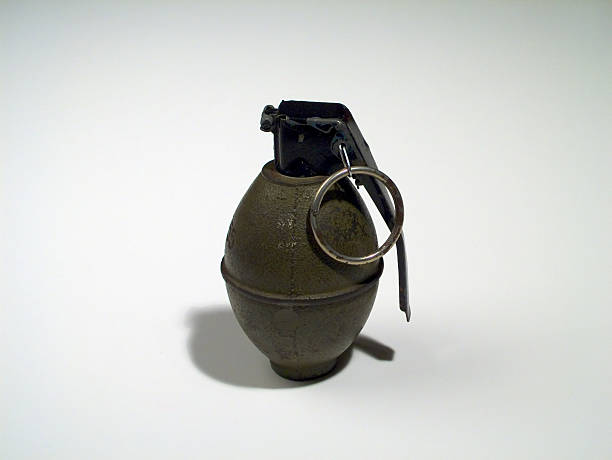e1: (221, 101, 414, 383)
